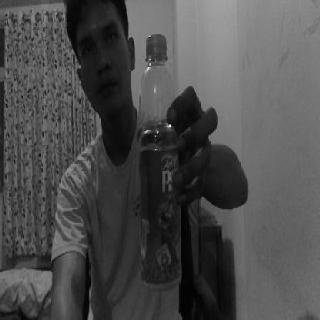plastic_bottles: (137, 35, 184, 288)
